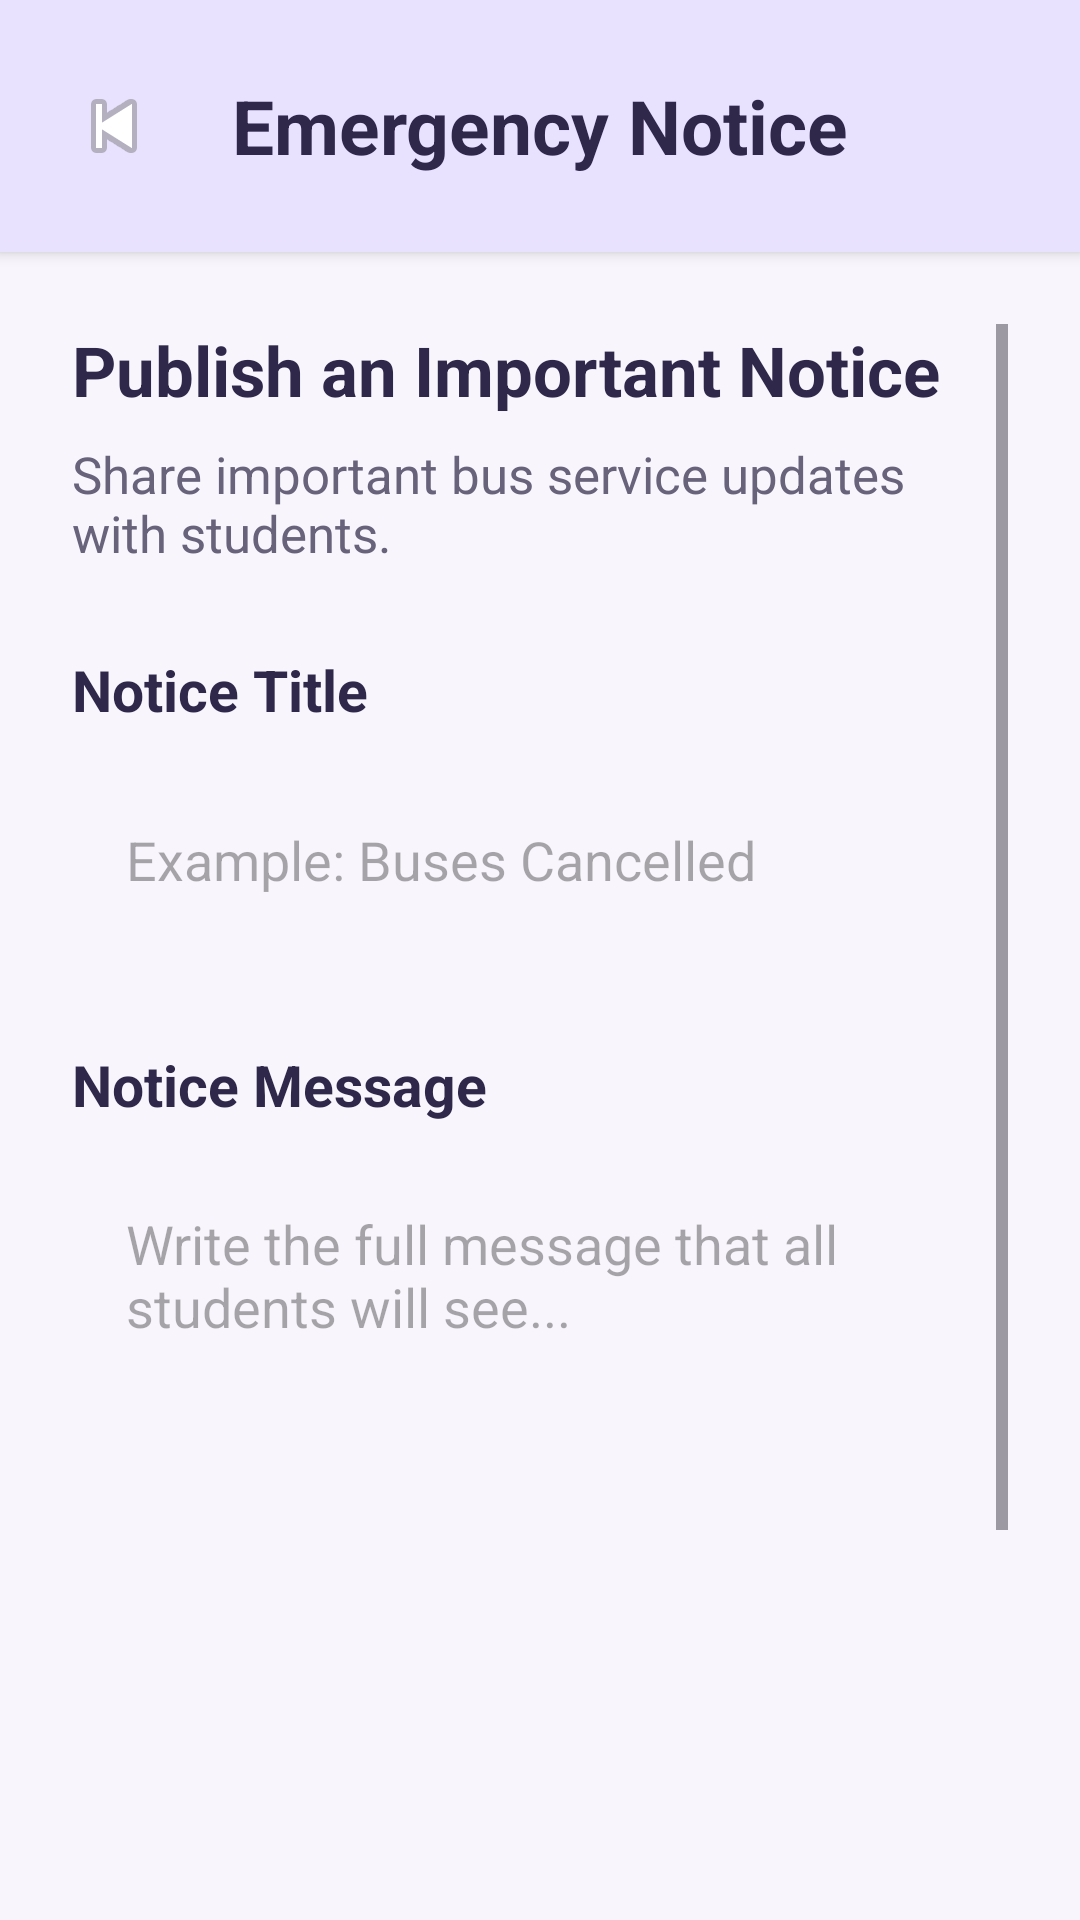

Where to tap for icons on this 1080px x 1920px app screen, as [x,y]:
Back: [114,126]
